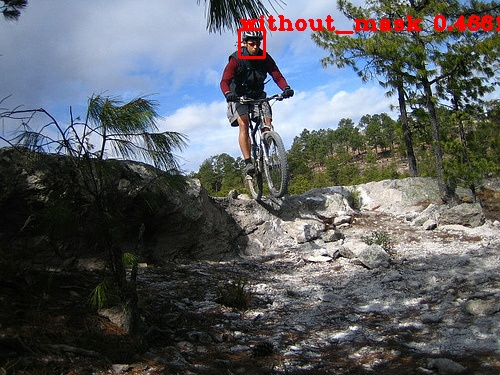without_mask: (243, 36, 262, 55)
